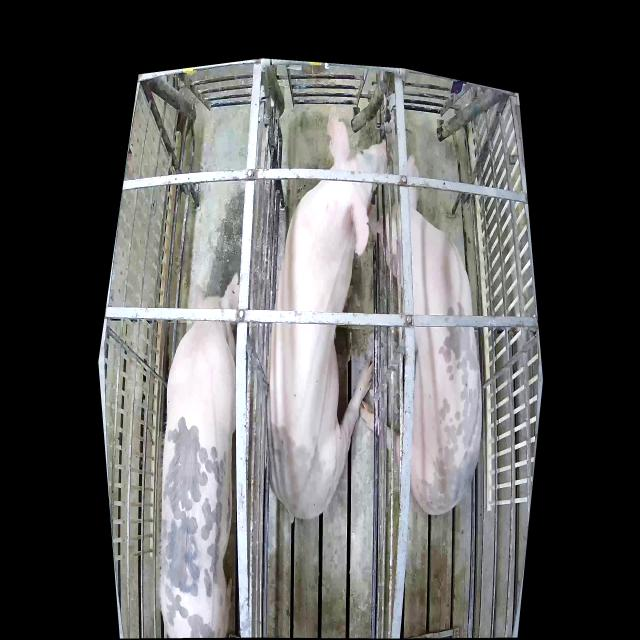pig: (269, 107, 389, 519), (360, 154, 482, 519), (161, 271, 240, 639)
